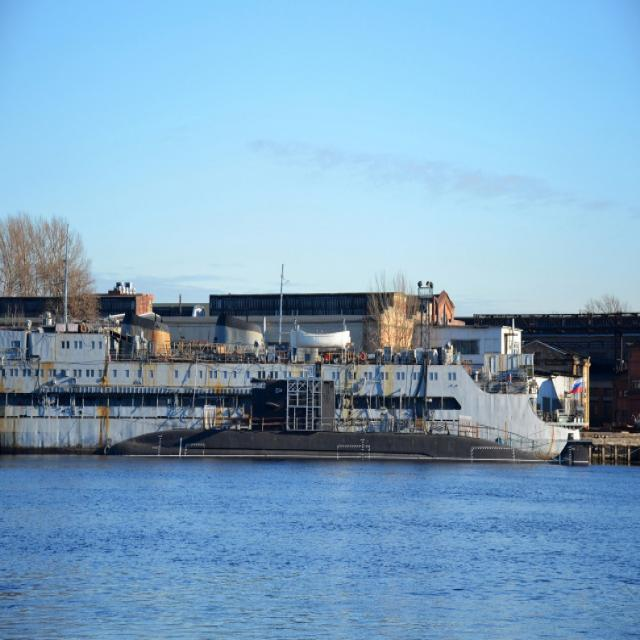submarine: (103, 380, 536, 459)
